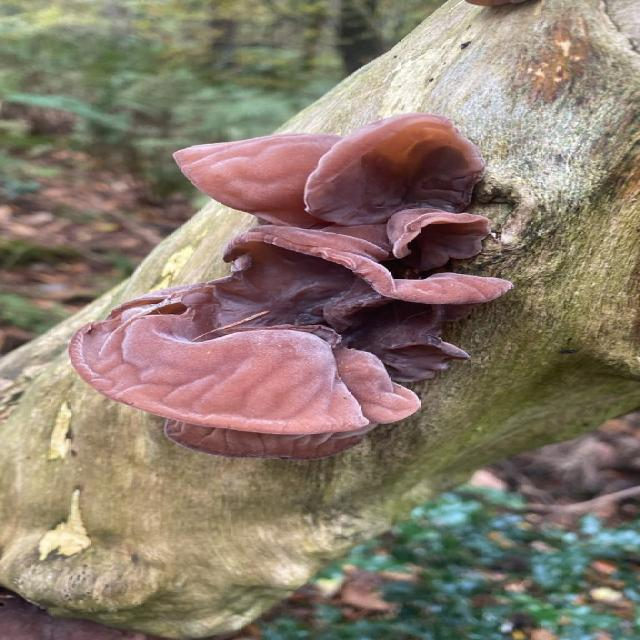Matang: (60, 290, 432, 460), (197, 219, 530, 373), (297, 102, 500, 233), (168, 127, 388, 229), (381, 204, 489, 262)
